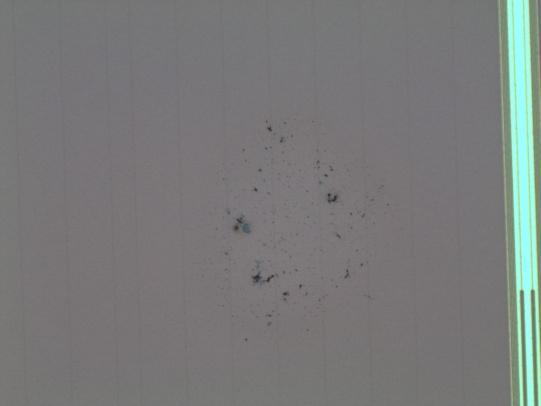PO CONTAMINATION: (205, 116, 401, 347)
